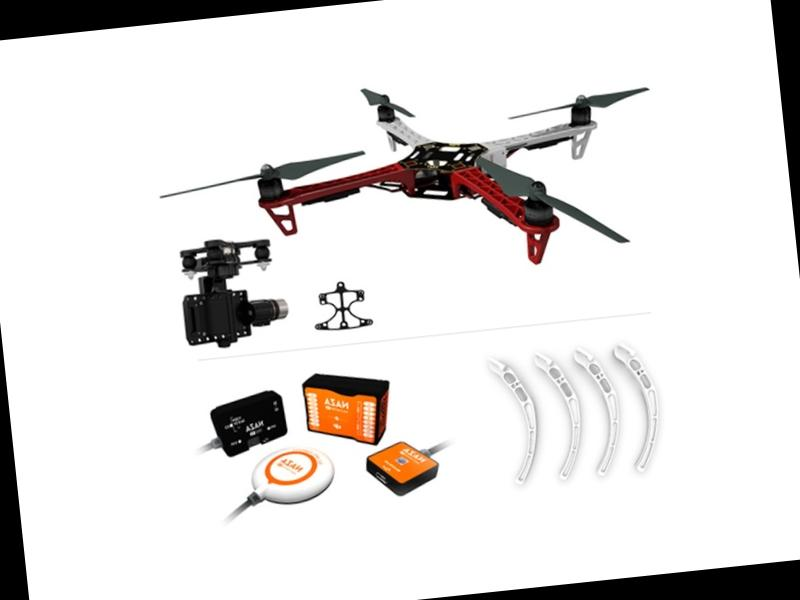drone: (146, 57, 670, 317)
